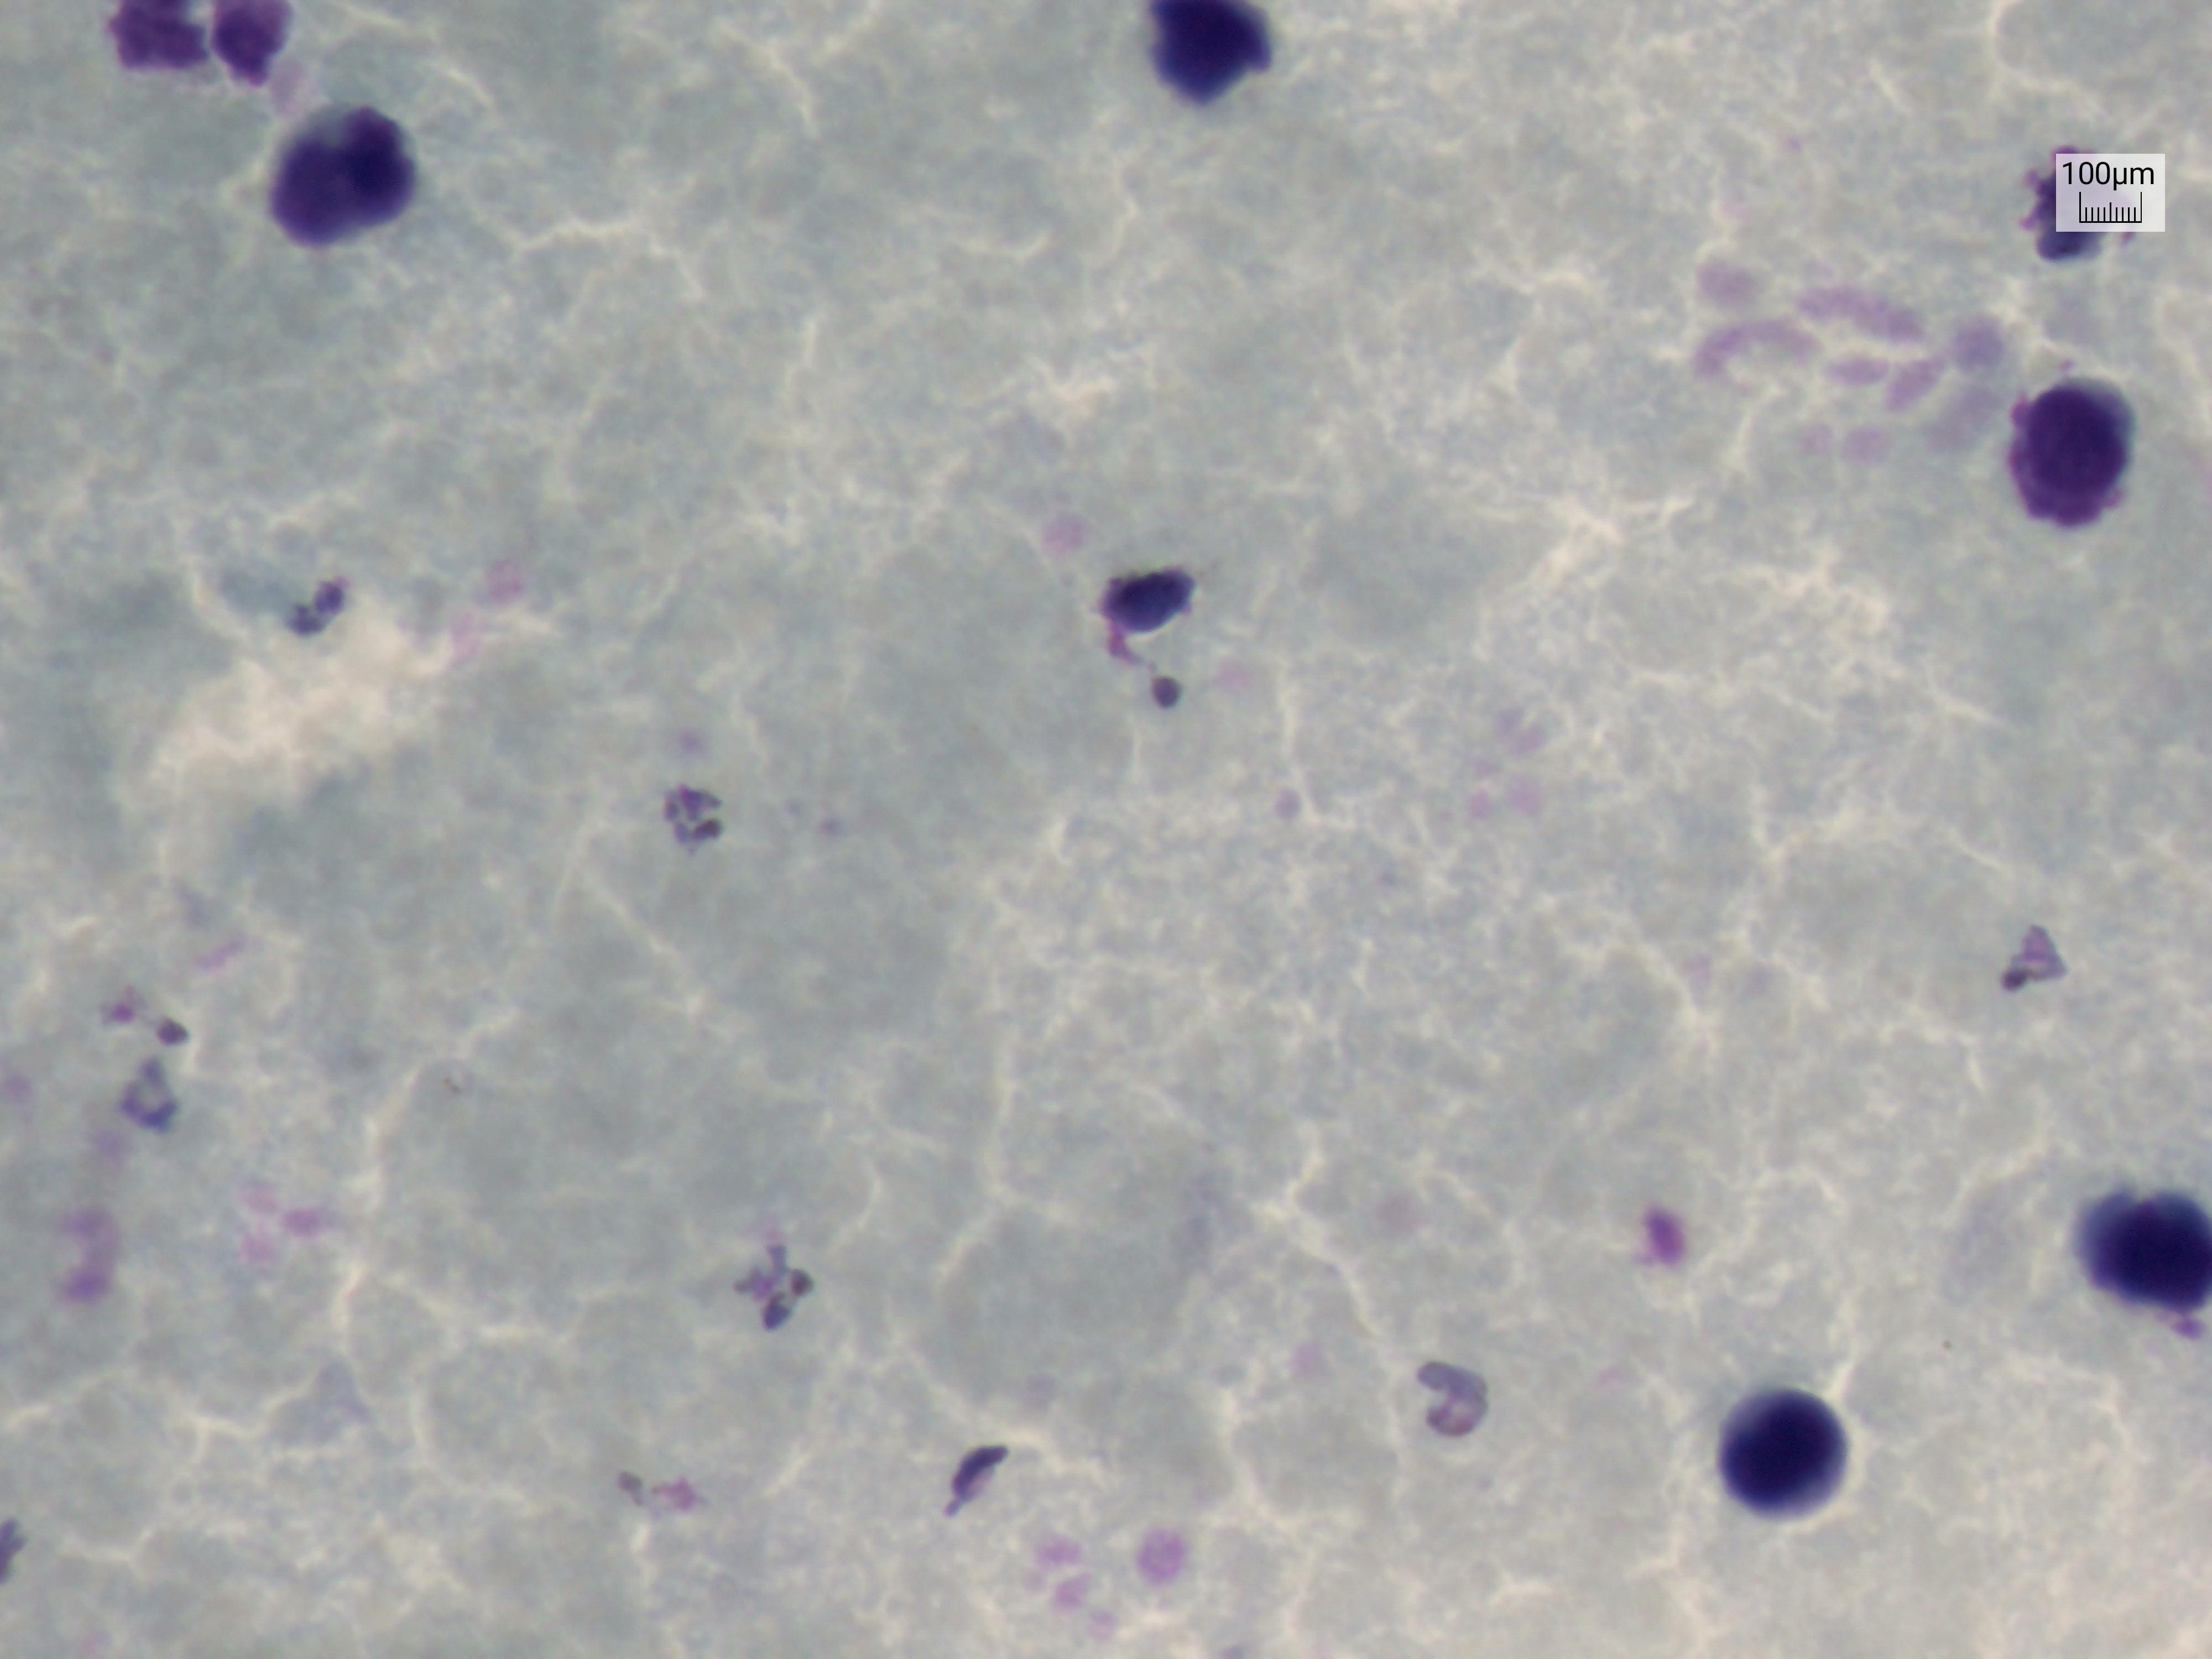p.vivax: (1064, 523, 1211, 685), (721, 1223, 880, 1342), (1399, 1324, 1505, 1486), (631, 748, 751, 880), (277, 537, 369, 692), (1986, 882, 2074, 1018)
